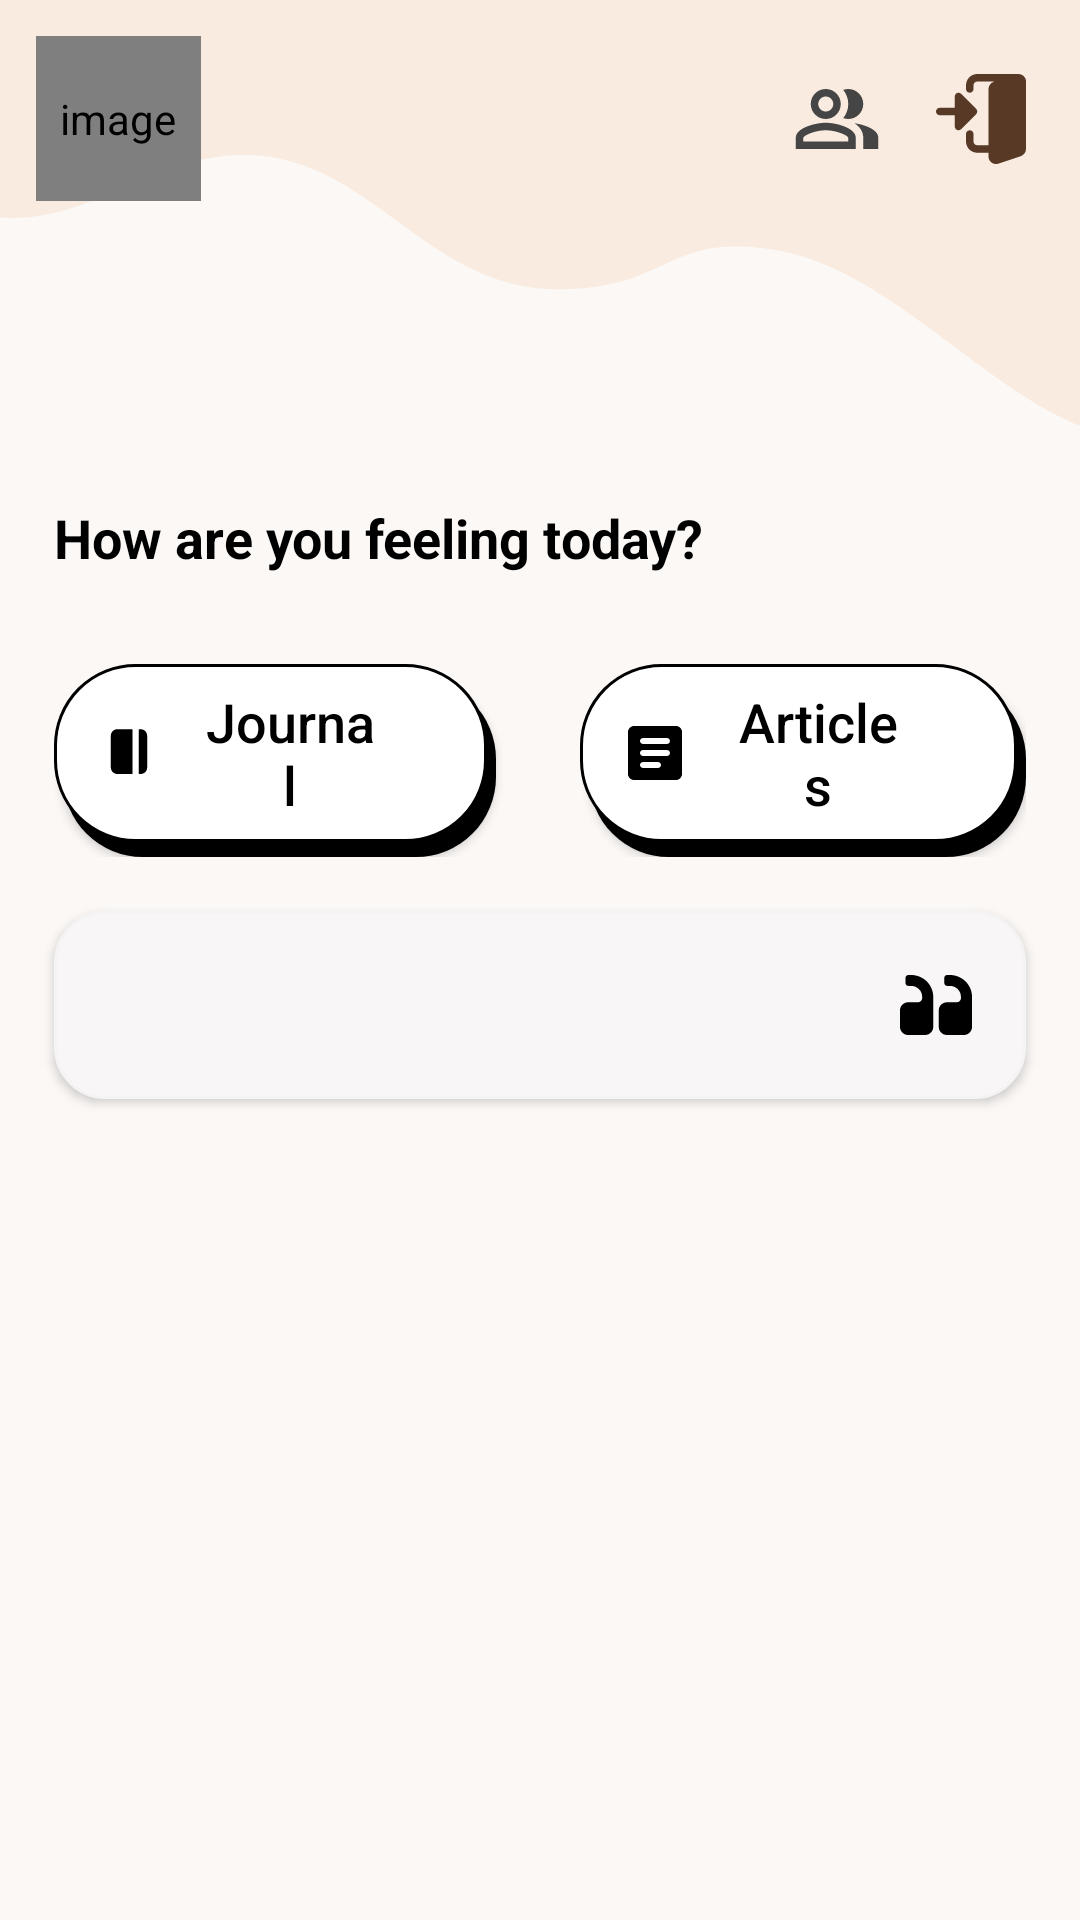

Icons on this 1080px×1920px Android screen, each with its box as [left=x1, top=y1, right=x2, bottom=y2]:
community: [left=795, top=89, right=879, bottom=149]
